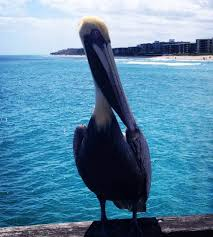pelican: (73, 15, 151, 219)
